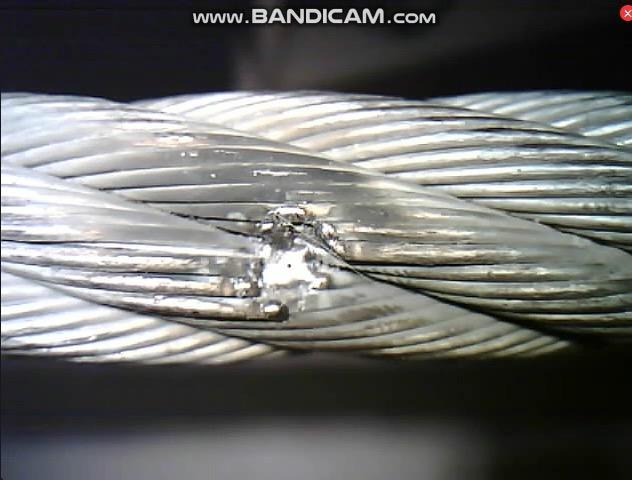thunderbolt: (212, 183, 385, 332)
